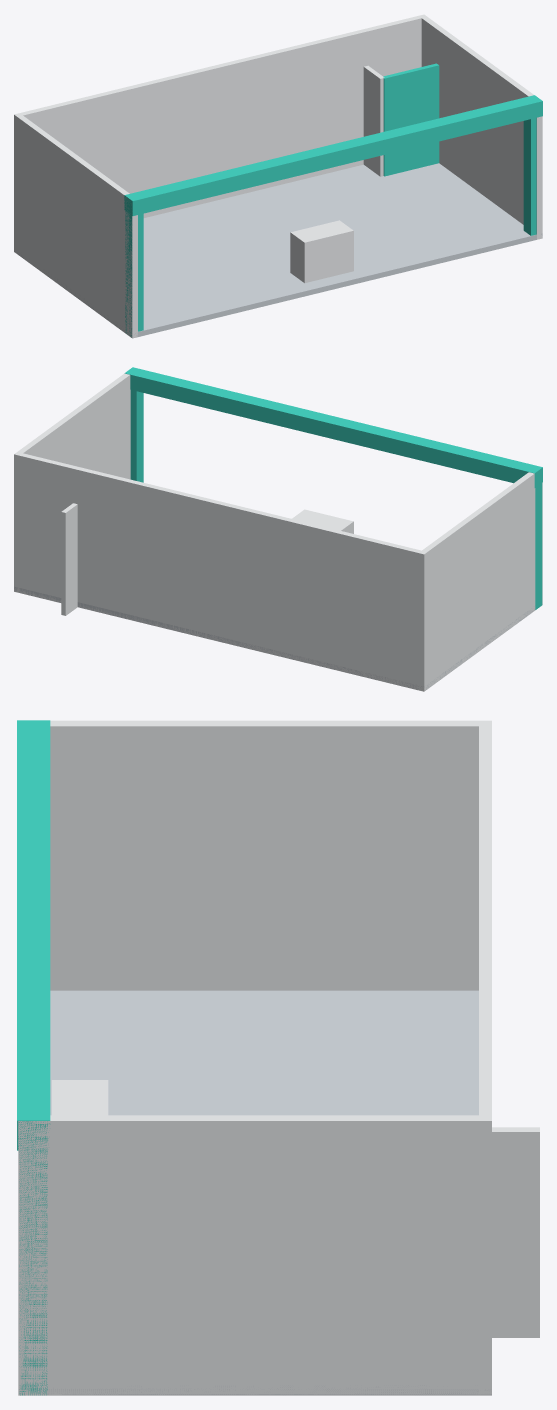
3 views of the same model, one above another, from view 1: azimuth 30°, elevation 25°; view 2: azimuth 150°, elevation 25°; view 3: azimuth 270°, elevation 25° (orthographic). The views are drawn at different scales.
Parts seen in each view (by area): view 1: Exhibition Booth Concept; view 2: Exhibition Booth Concept; view 3: Exhibition Booth Concept.
Part boxes in pixels (x1,y1,x2,y2): Exhibition Booth Concept: [14, 14, 542, 338]; Exhibition Booth Concept: [14, 367, 542, 691]; Exhibition Booth Concept: [17, 720, 539, 1395].
Bounding box in the file's own units: 10 × 3.2 × 5.52.
